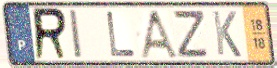A: (137, 8, 180, 60)
I: (68, 8, 85, 61)
K: (210, 9, 243, 59)
L: (104, 10, 138, 58)
R: (32, 6, 70, 63)
Z: (173, 9, 210, 59)
